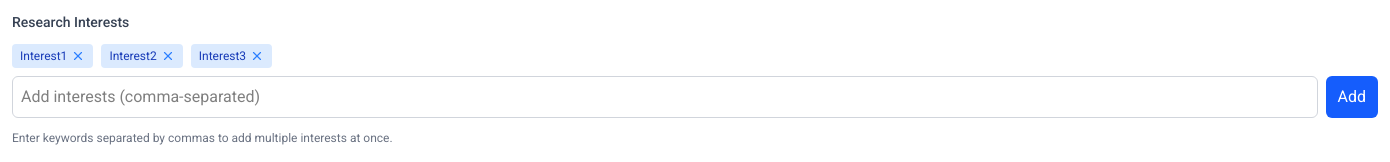
Test case: ProfileInterests Component › Interaction › removes an interest
Find and click remove button for second interest
What coordinates should you click on to do the following:
click the button without text next to "Interest2"
I would click on:
 (168, 56)
Its box is [161,49,175,63].
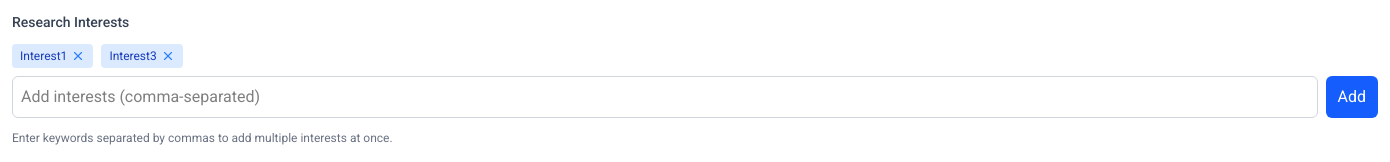
Expected: the text "Interest1" is shown, [12,44,93,68]
Now the text "Interest2" is gone
Now the text "Interest3" is shown, box [101,44,183,68]
